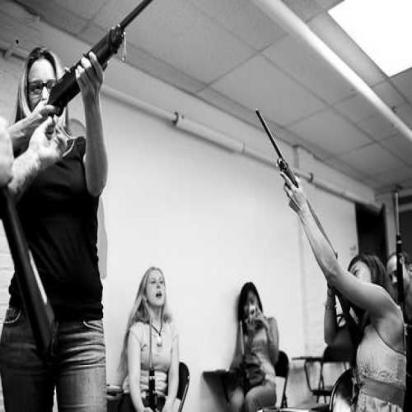Gun: (250, 105, 365, 351), (35, 0, 163, 142)
